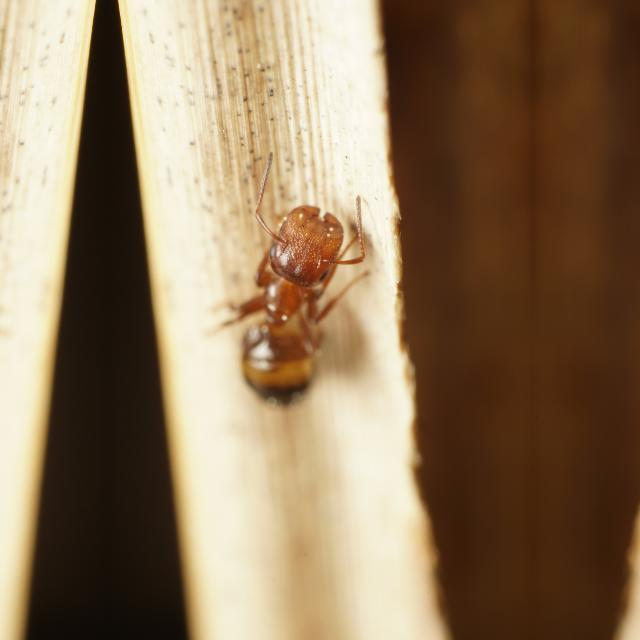Colobopsis: (216, 170, 376, 420)
